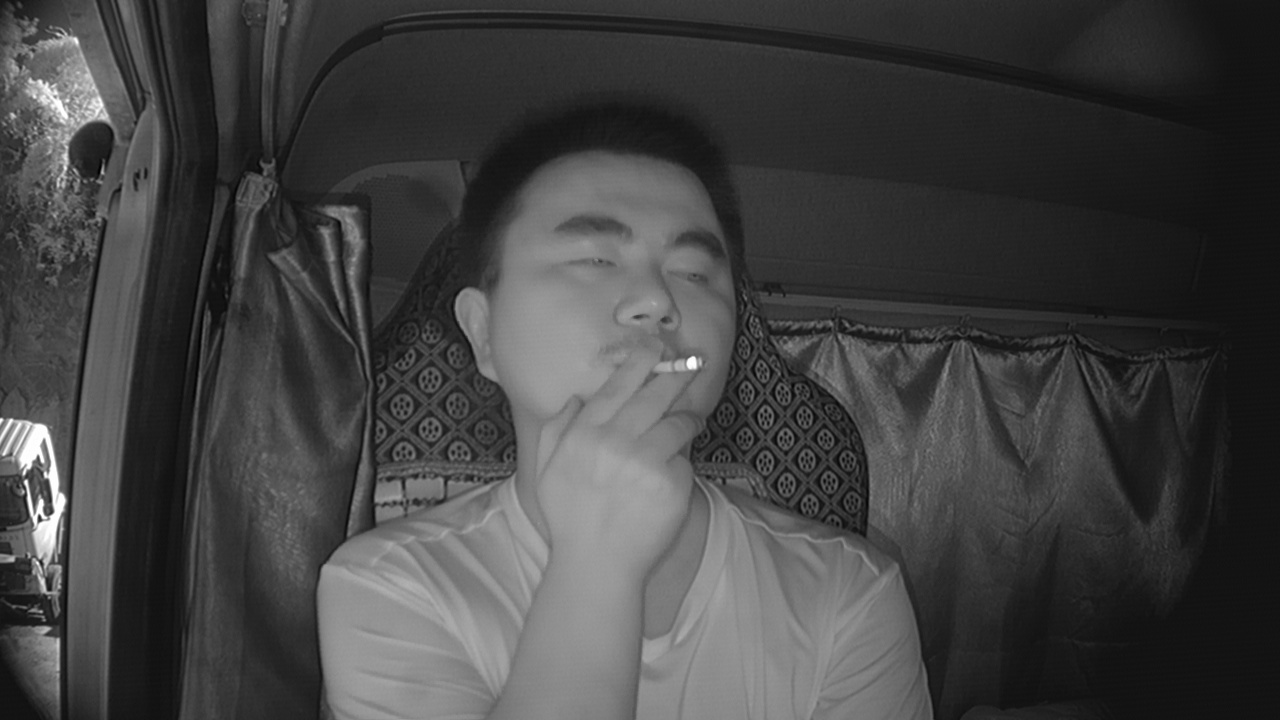hand: (540, 331, 708, 530)
